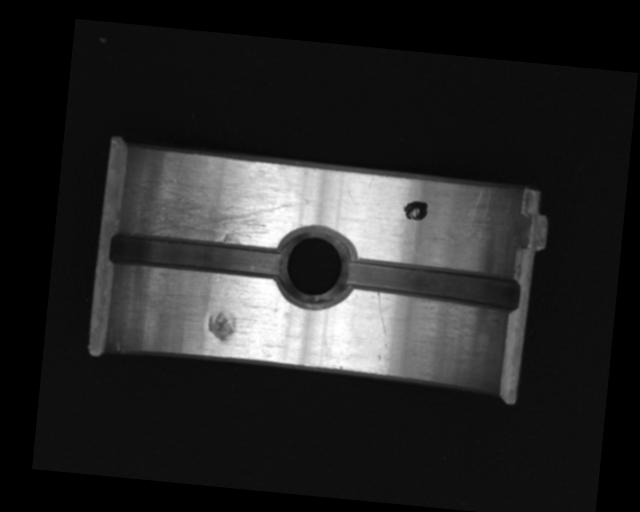blot: (402, 198, 429, 222)
bruise: (205, 308, 237, 342)
gap: (339, 256, 522, 314), (108, 230, 285, 282)
hole: (271, 223, 355, 313)
nick: (372, 292, 393, 348)
scratch: (120, 172, 294, 250)
